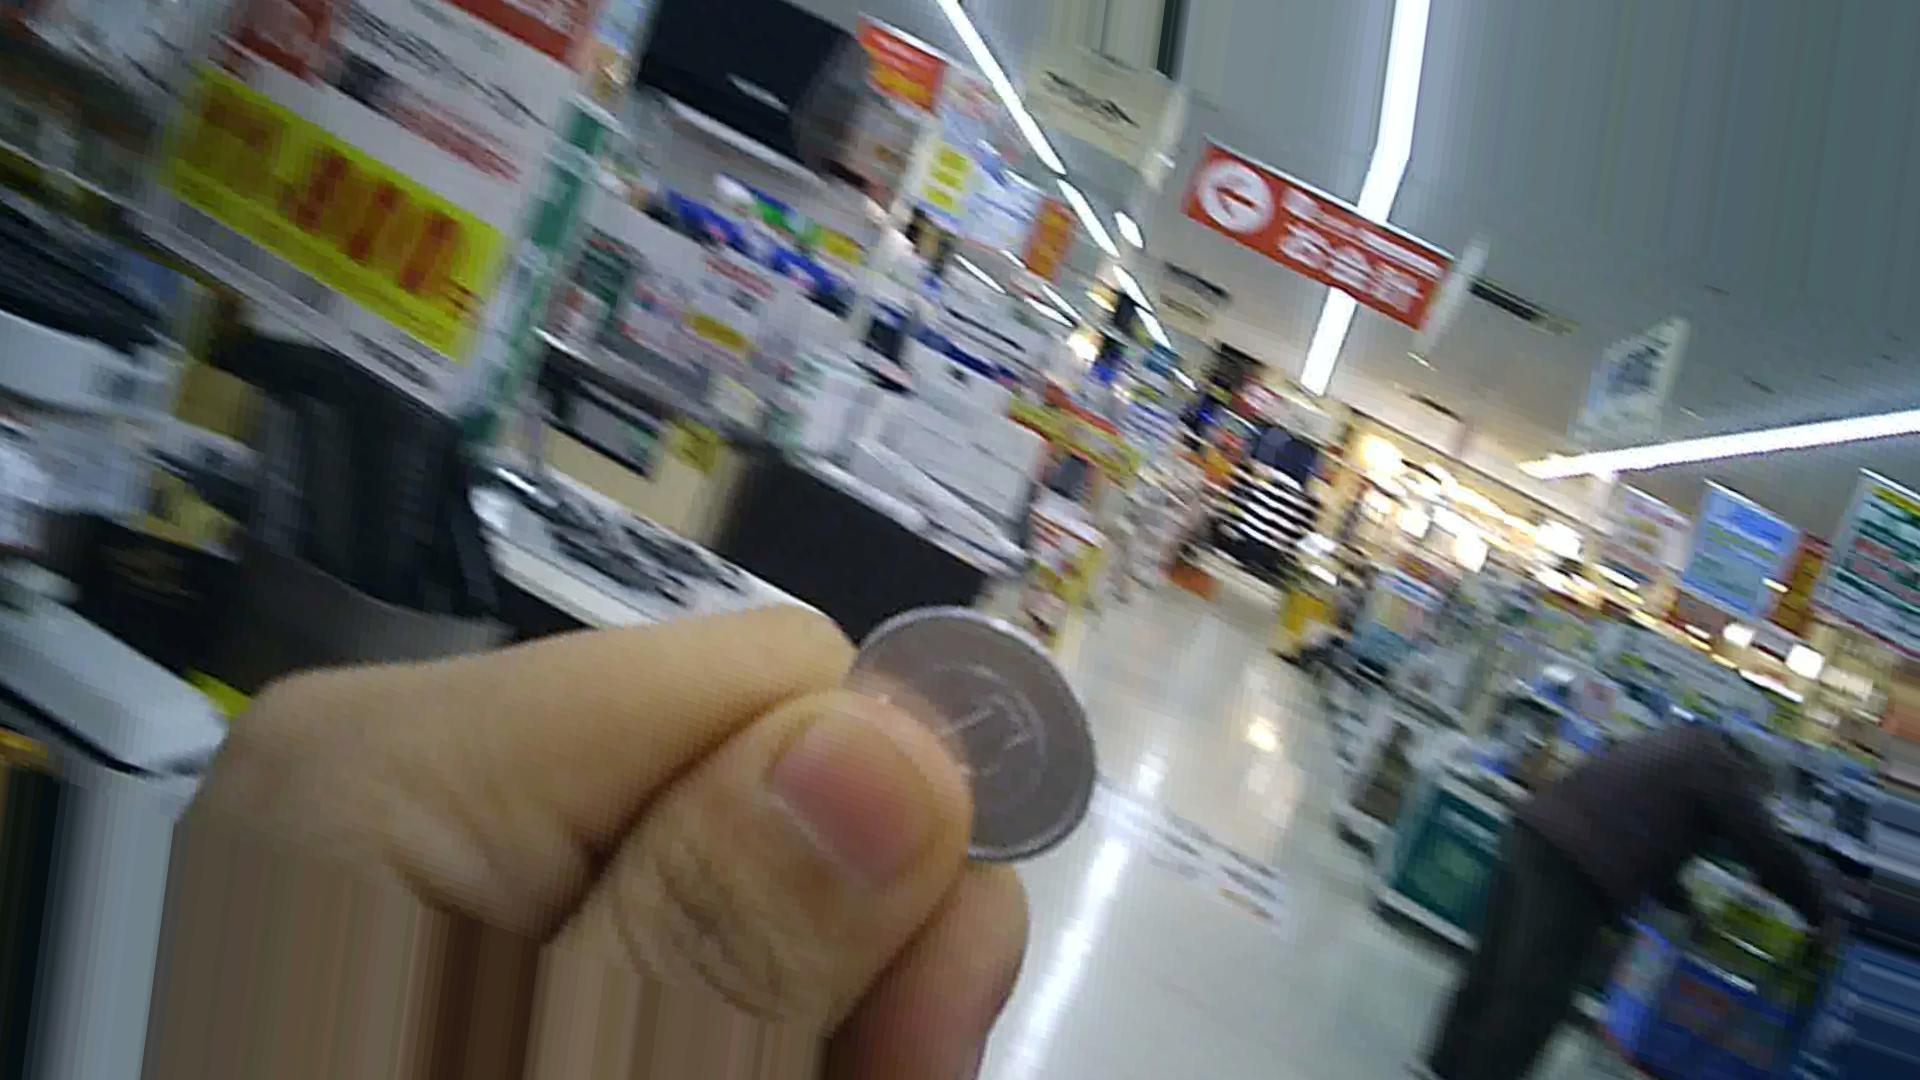1 Yen: (827, 589, 1106, 868)
